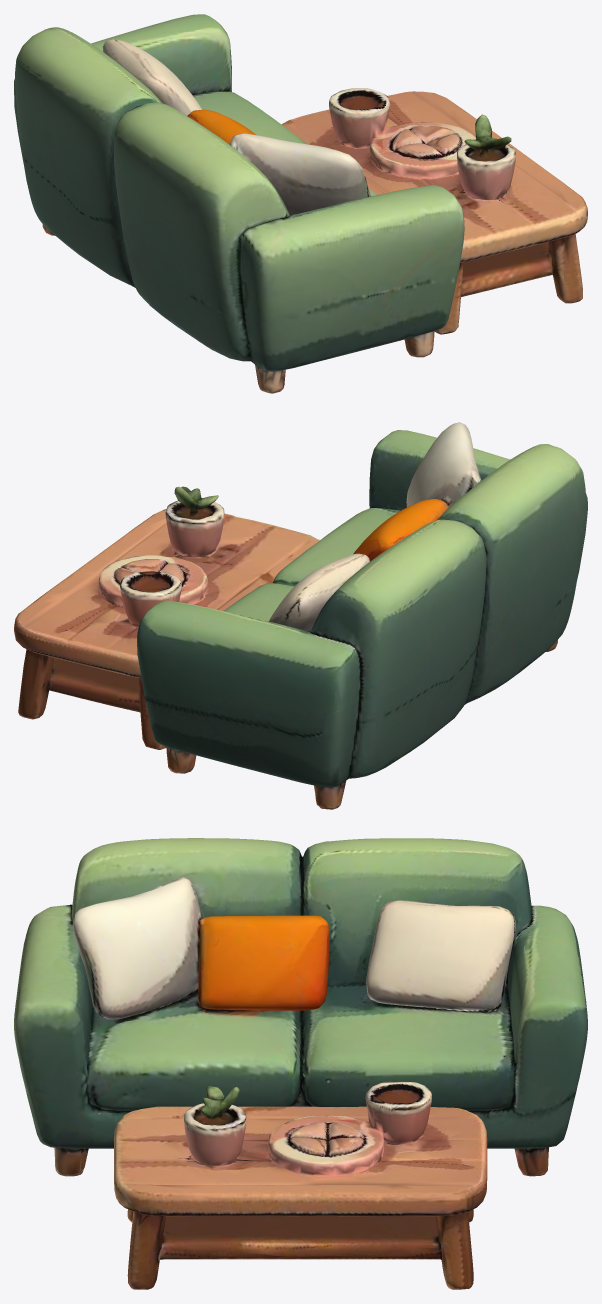
The model's file is seating.glb.
The picture shows the model from 3 angles, top to bottom: view 1: azimuth 30°, elevation 25°; view 2: azimuth 150°, elevation 25°; view 3: azimuth 270°, elevation 25°; orthographic projection. The views are drawn at different scales.
Visible parts, largest first — view 1: tripo_node_ffccd57a-6da2-4b2e-bbb6-c1b06577cf1b; view 2: tripo_node_ffccd57a-6da2-4b2e-bbb6-c1b06577cf1b; view 3: tripo_node_ffccd57a-6da2-4b2e-bbb6-c1b06577cf1b.
Boxes of the visible parts, left/top/right/bottom form: tripo_node_ffccd57a-6da2-4b2e-bbb6-c1b06577cf1b: left=14, top=14, right=587, bottom=393; tripo_node_ffccd57a-6da2-4b2e-bbb6-c1b06577cf1b: left=14, top=422, right=587, bottom=809; tripo_node_ffccd57a-6da2-4b2e-bbb6-c1b06577cf1b: left=14, top=838, right=587, bottom=1289.
Bounding box in the file's own units: 0.8929 × 0.4917 × 0.9998.
1 material, 1 textured.
